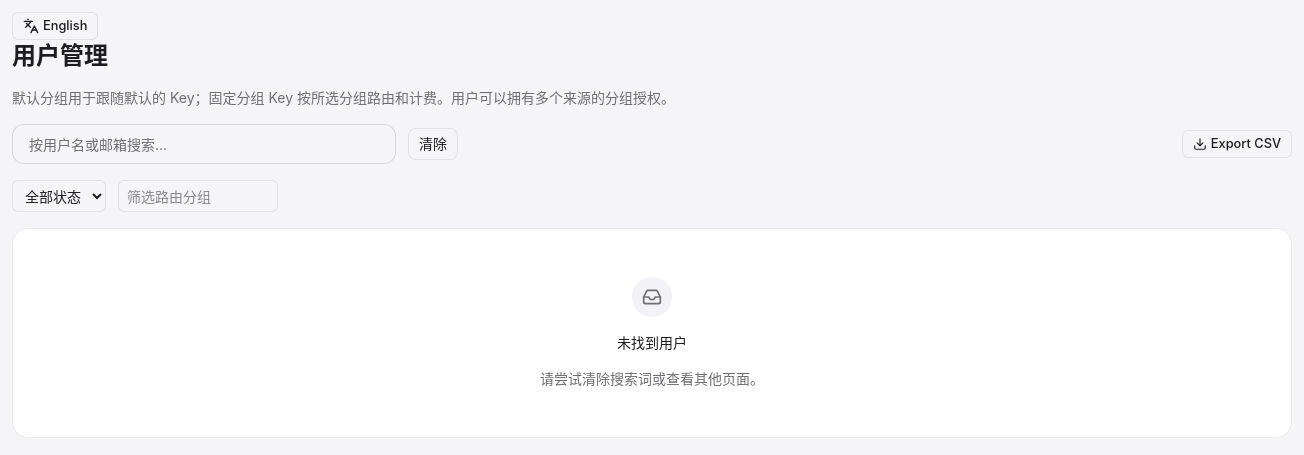
Test: admin language synchronization › switches the user management title and content together
This screenshot has width=1304, height=455.
Expected: the heading "用户管理" is shown, [12,40,108,72]
Expected: the text "未找到用户" is shown, [617,333,687,353]
Click the button with aria-label "切换至英文": (55,26) [12,12,98,40]
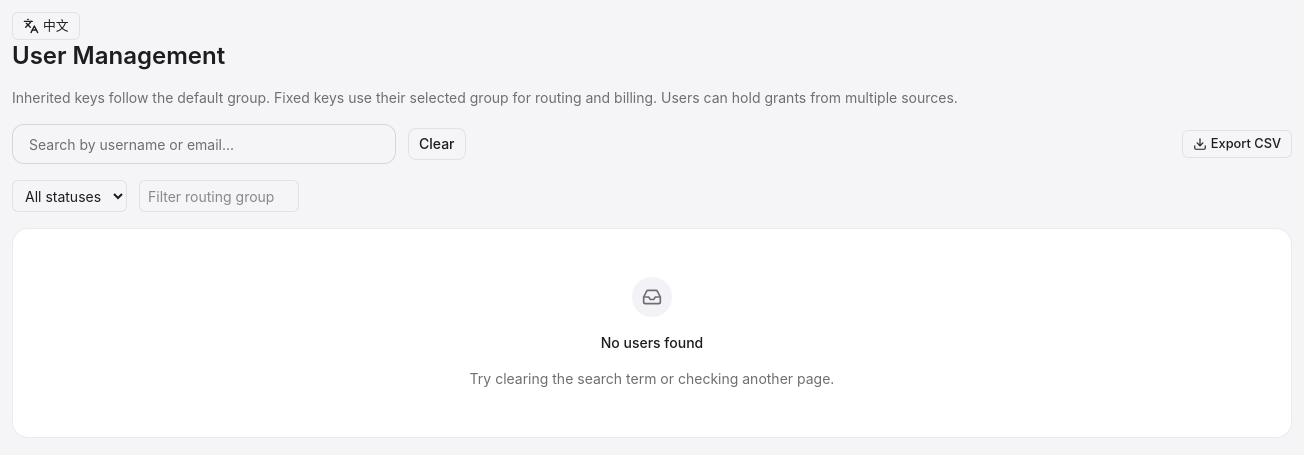
Result: the heading "User Management" is shown at [12,40,225,72]
Result: the text "No users found" is shown at [601,333,703,353]
